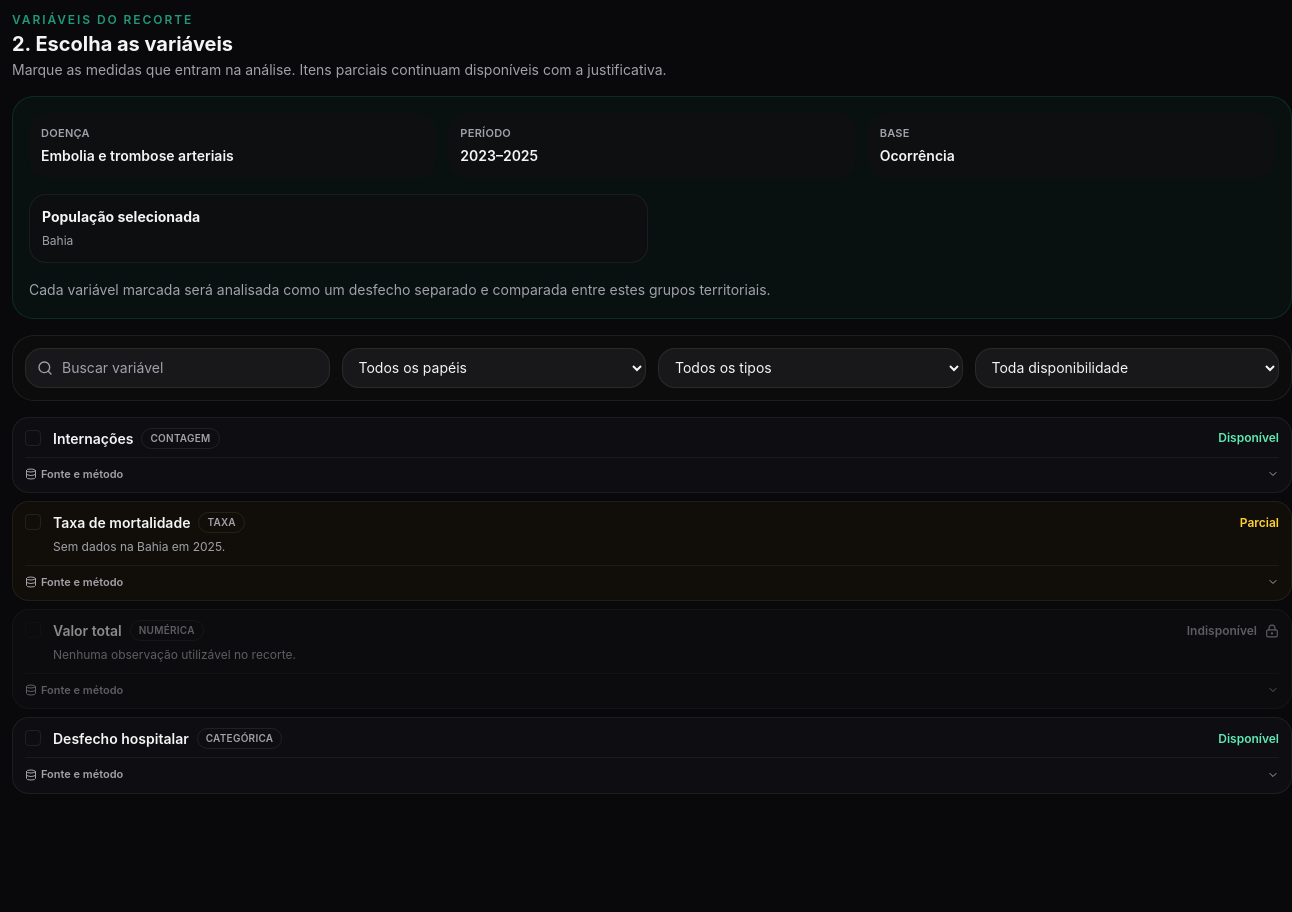
Test case: MapVariableList › shows one compact searchable list instead of type columns
In the search field labelled "Buscar variável": x=177, y=368 top-left (25, 348), bottom-right (330, 388), type "mortalidade"
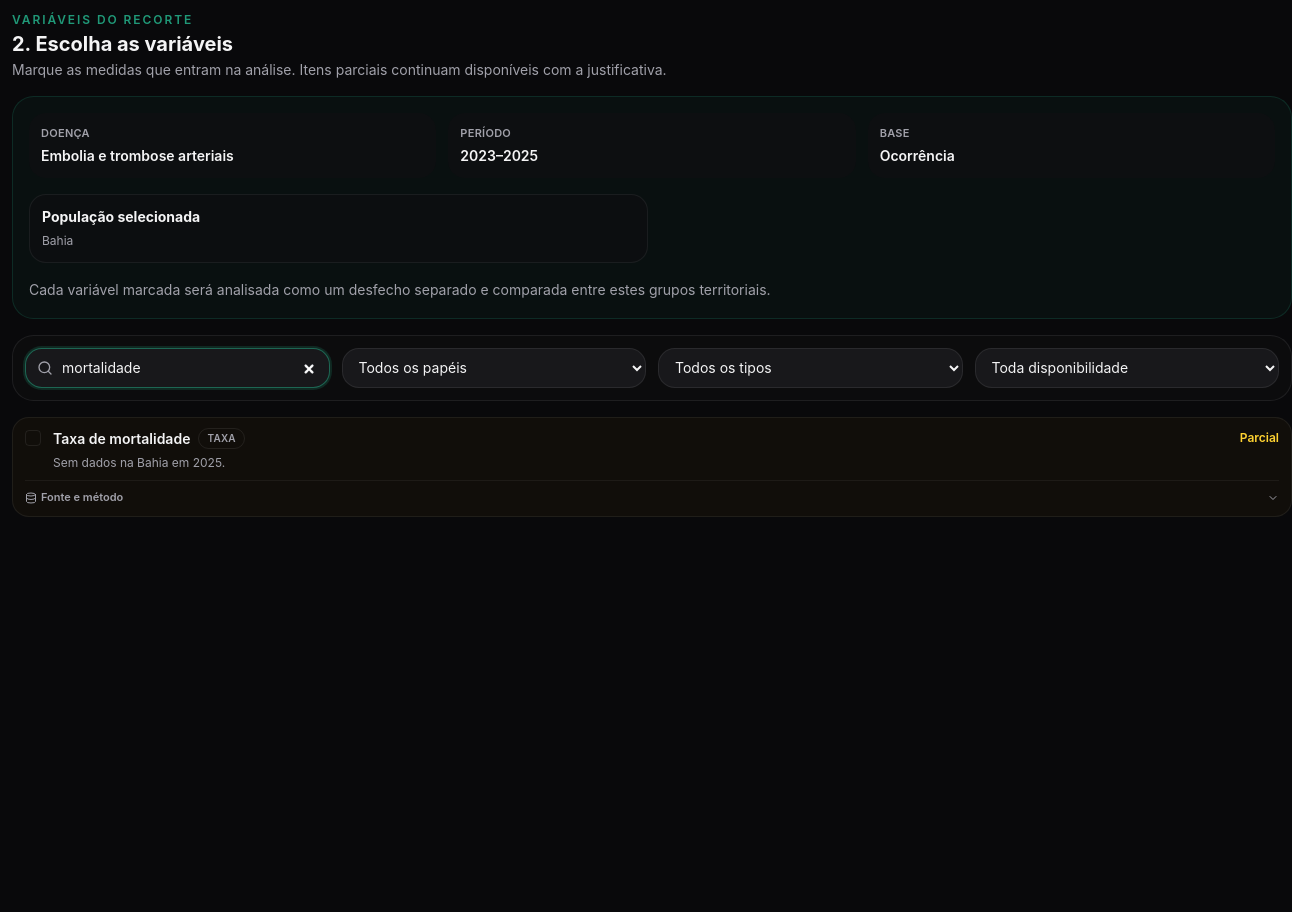
Expected: the text "Taxa de mortalidade" is shown, top-left (53, 429), bottom-right (190, 448)
Expected: the text "Internações" is gone
